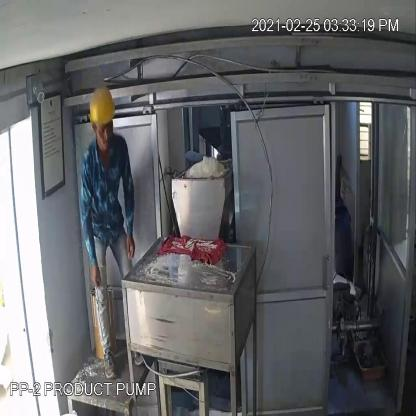helmet: (86, 84, 120, 128)
